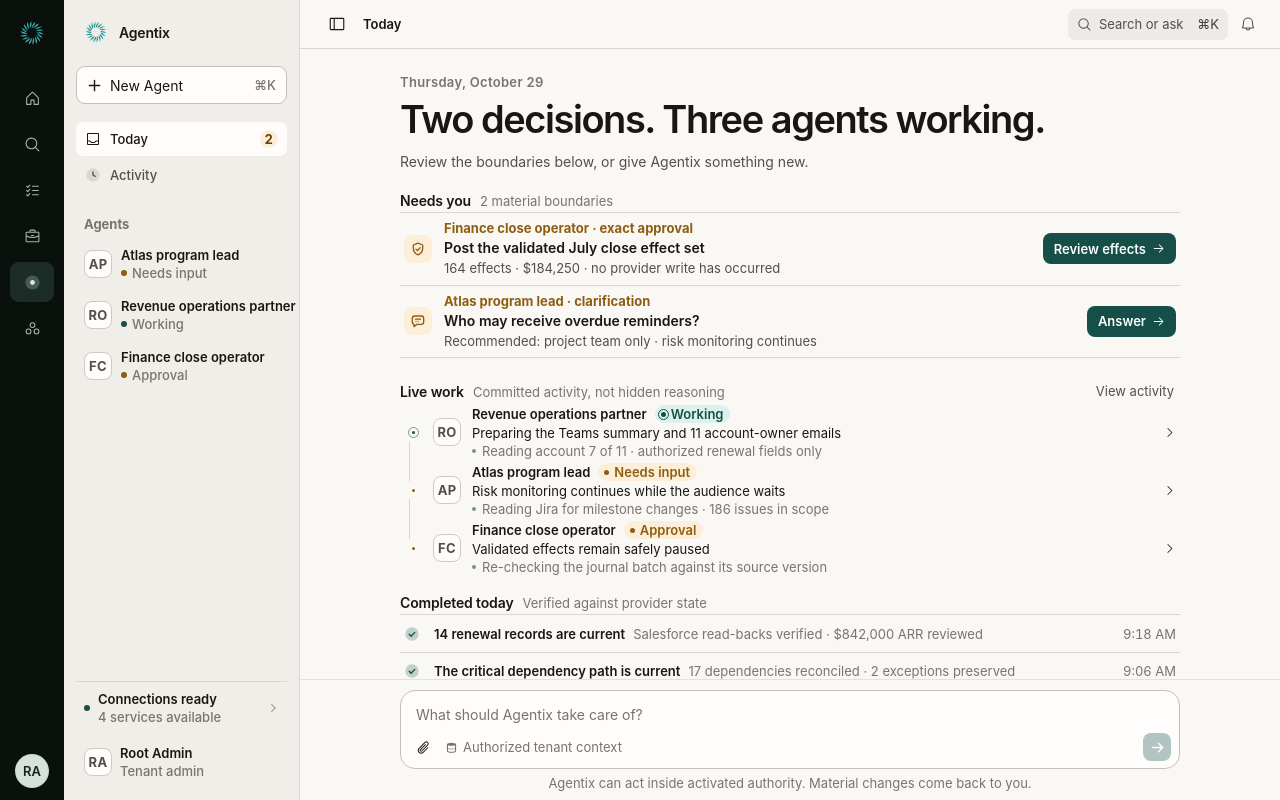
Test: AgentixPrototypePage › keeps the command bar keyboard-accessible and exposes committed activity separately
Press k
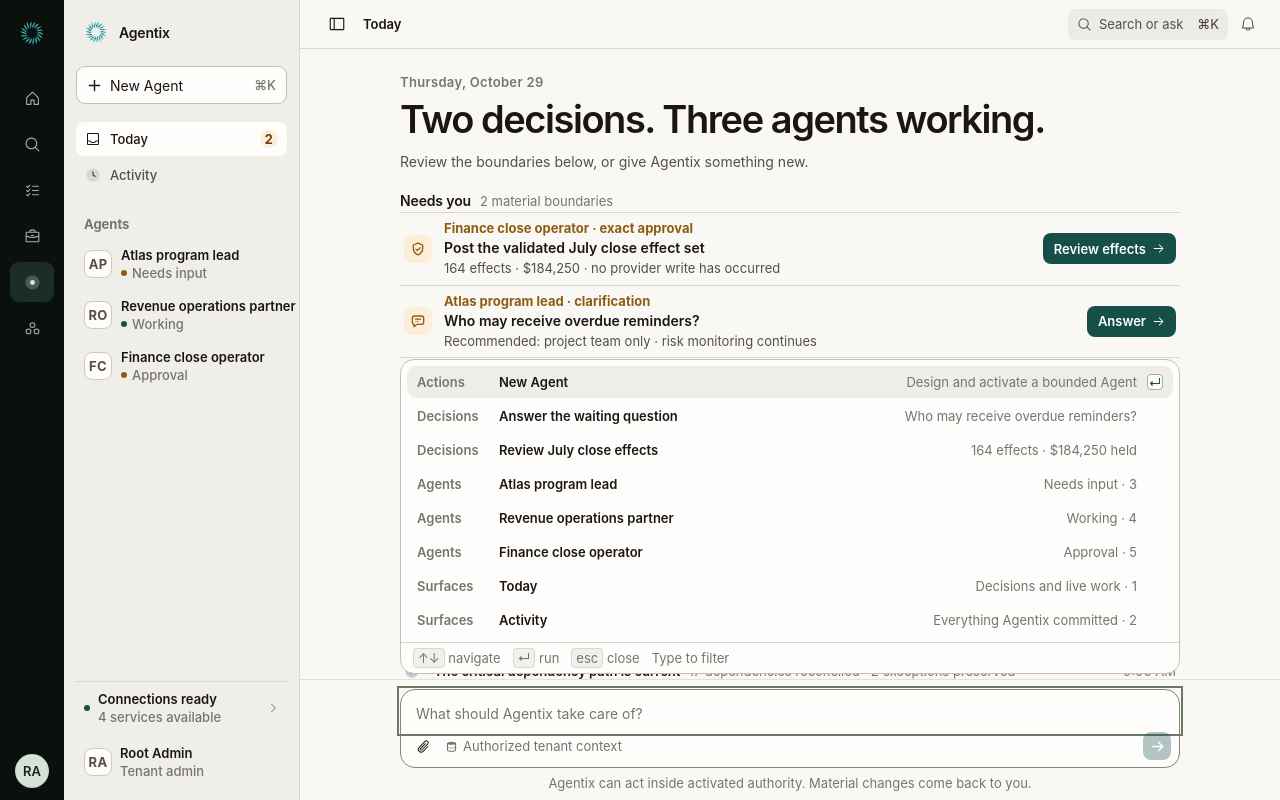
Click the button "Activity".
click(182, 175)  # box [76,158,287,192]
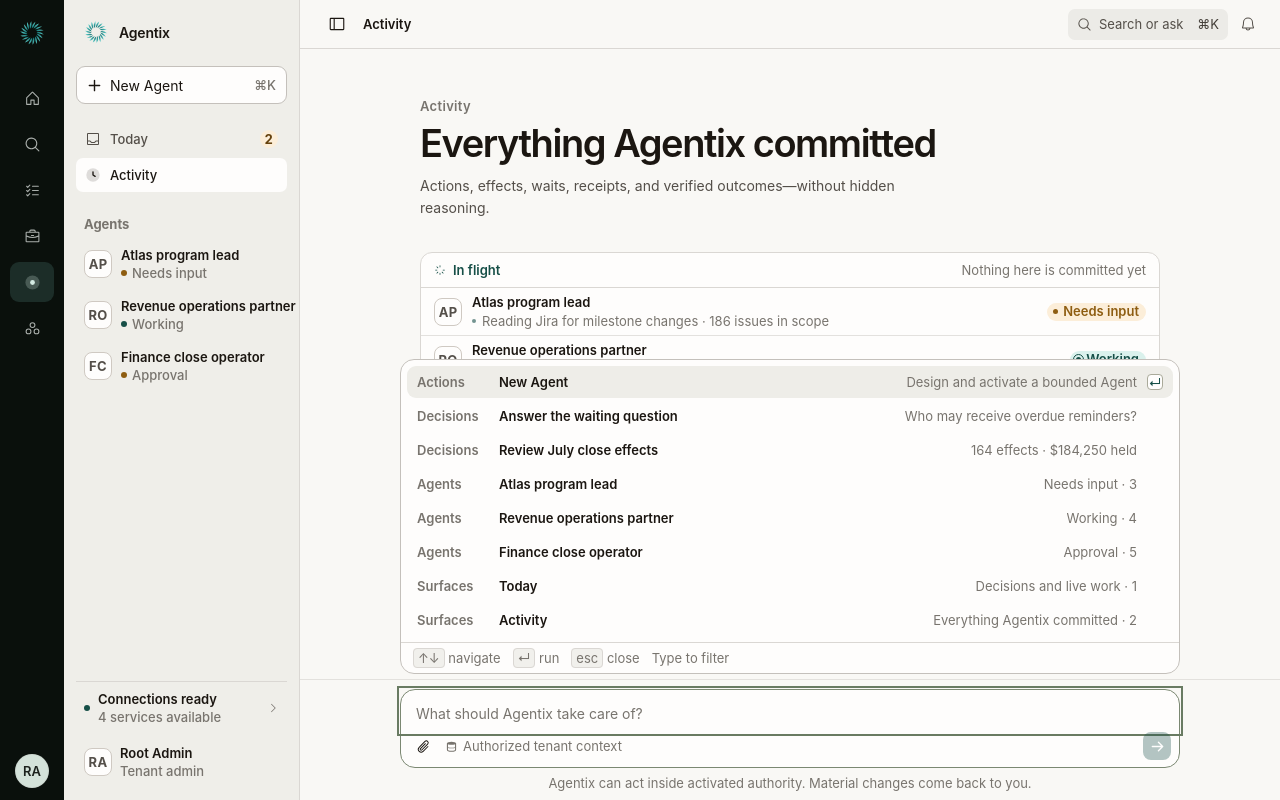
Expected: the text "Verified" is shown, [1084,496,1156,514]
Expected: the heading "Everything Agentix committed" is shown, [420,120,936,166]
